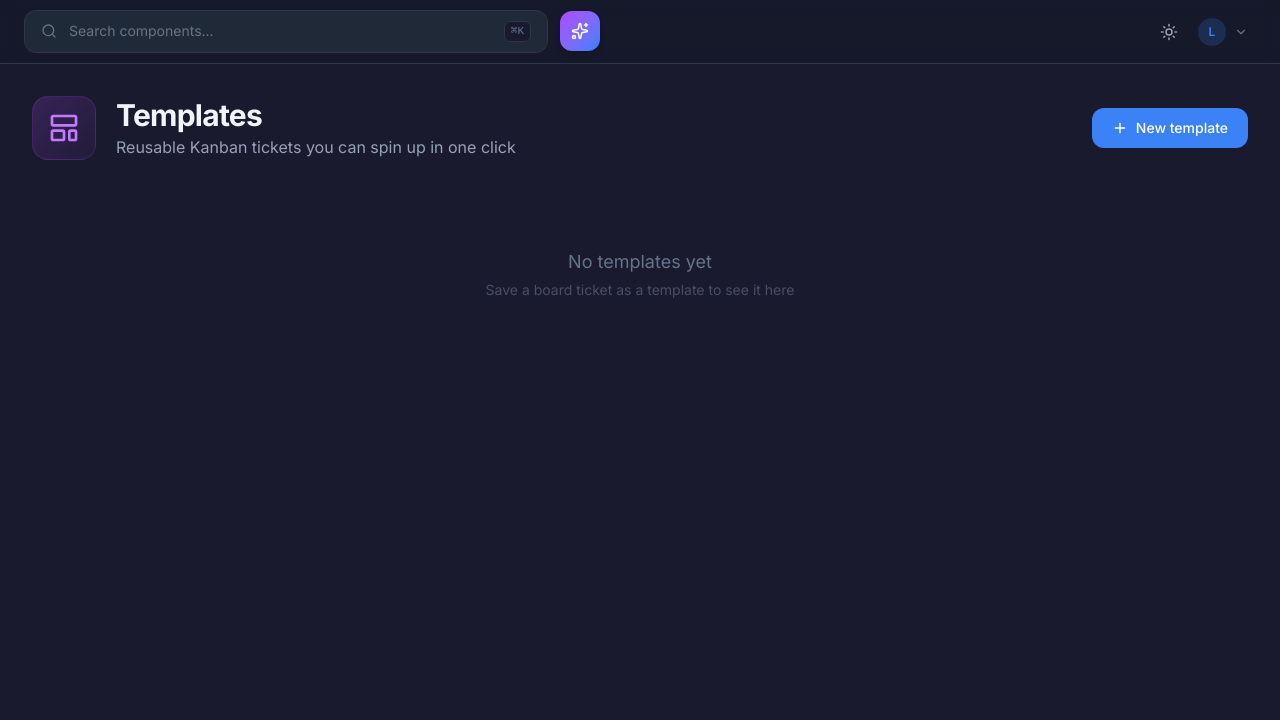
Scenario: TemplatesPage › + New template flow › blocks submit when name or task title is empty
Click the button "New template": (1170, 128) [1092,108,1248,148]
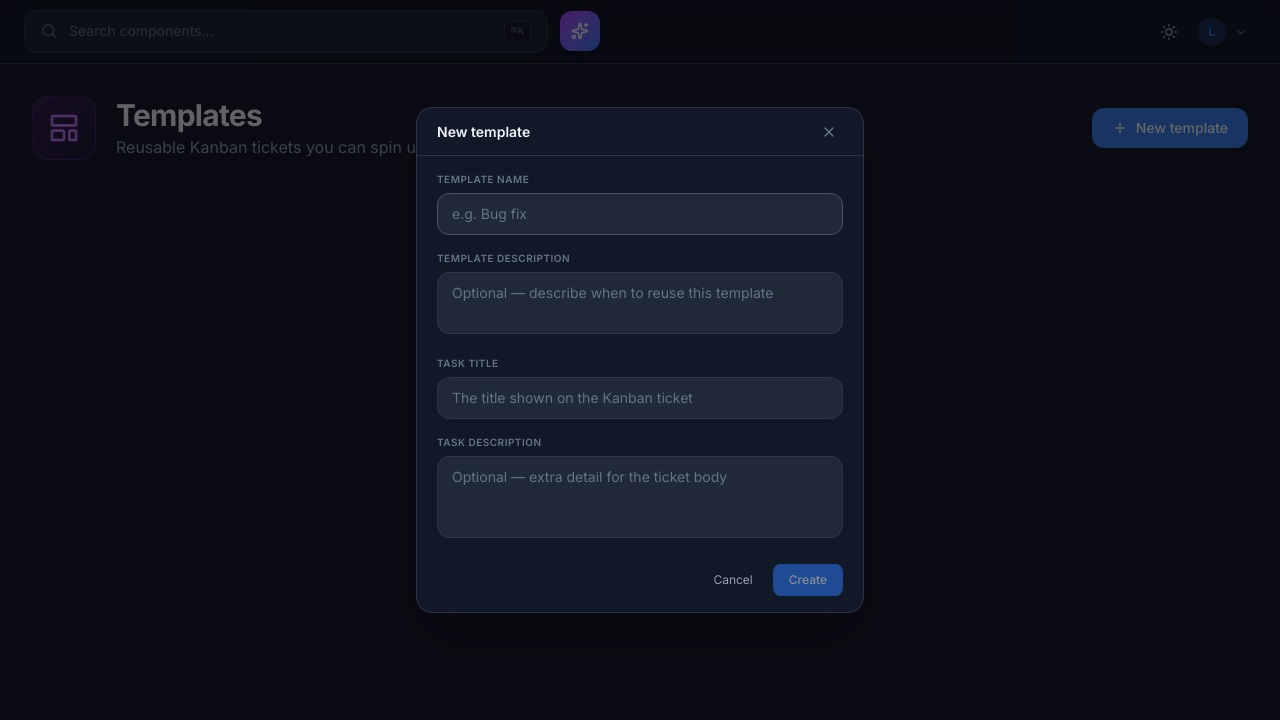
Result: the button "Create" is disabled at [773,564,843,596]
In the field labelled "Template name": (640, 214) [437,193,843,235], type "My template"
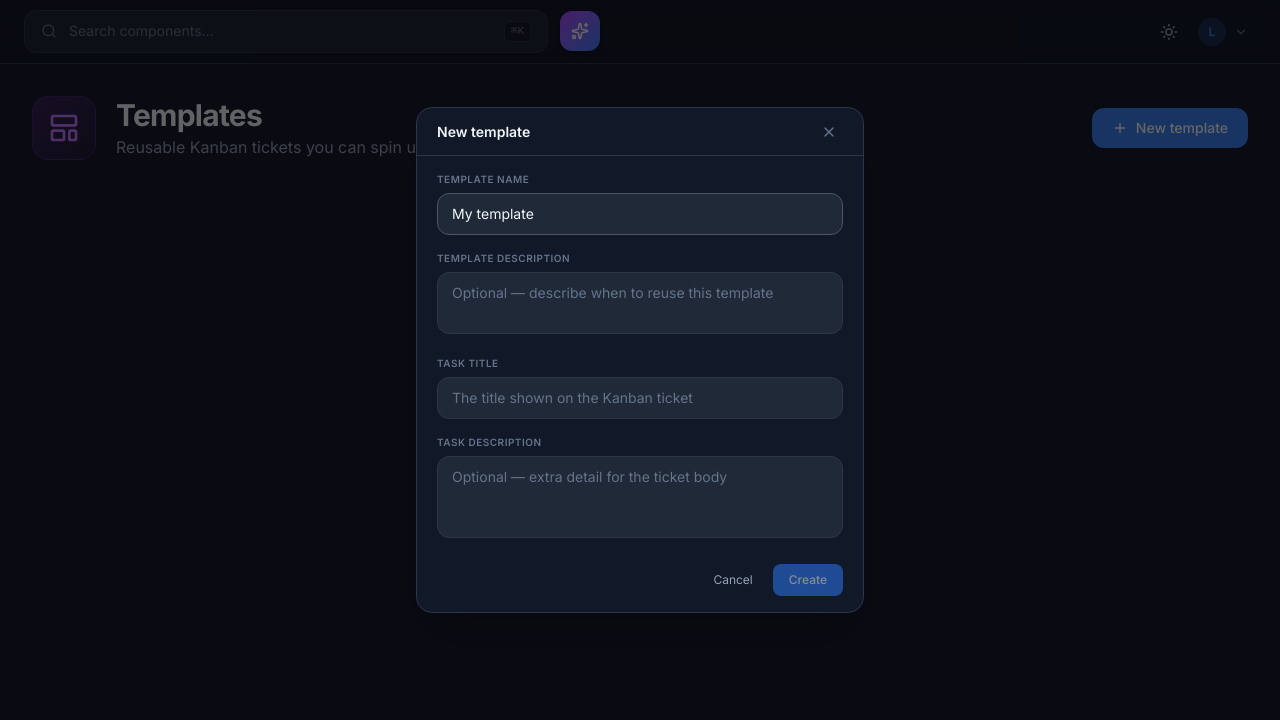
Result: the button "Create" is disabled at [773,564,843,596]
In the field labelled "Task title": (640, 398) [437,377,843,419], type "Do the work"
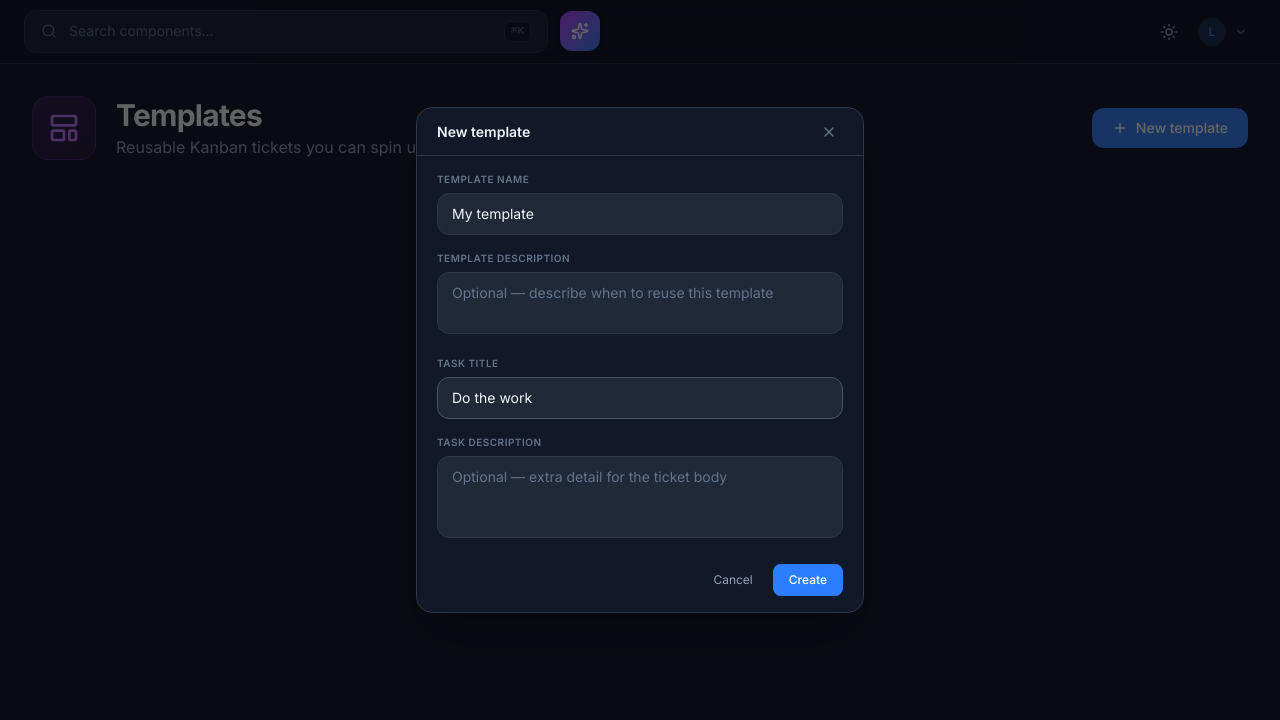
Result: the button "Create" is enabled at [773,564,843,596]
